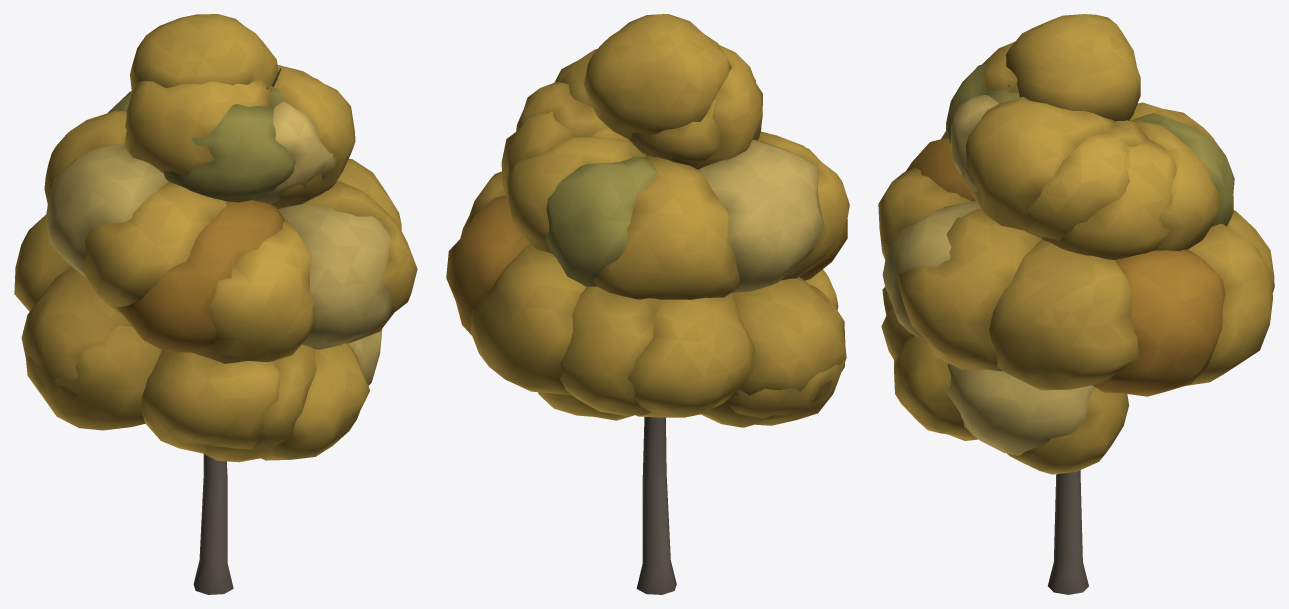
The model's file is nature_tree_ginkgo_01.glb.
3 views of the same model, side by side, from view 1: azimuth 30°, elevation 25°; view 2: azimuth 150°, elevation 25°; view 3: azimuth 270°, elevation 25° (orthographic).
Visible parts, largest first — view 1: nature_tree_ginkgo_01; view 2: nature_tree_ginkgo_01; view 3: nature_tree_ginkgo_01.
Part boxes in pixels (x1,y1,x2,y2): nature_tree_ginkgo_01: (14,14,417,594); nature_tree_ginkgo_01: (446,14,849,594); nature_tree_ginkgo_01: (878,14,1274,594).
Bounding box in the file's own units: 5.38 × 8.13 × 5.17.
